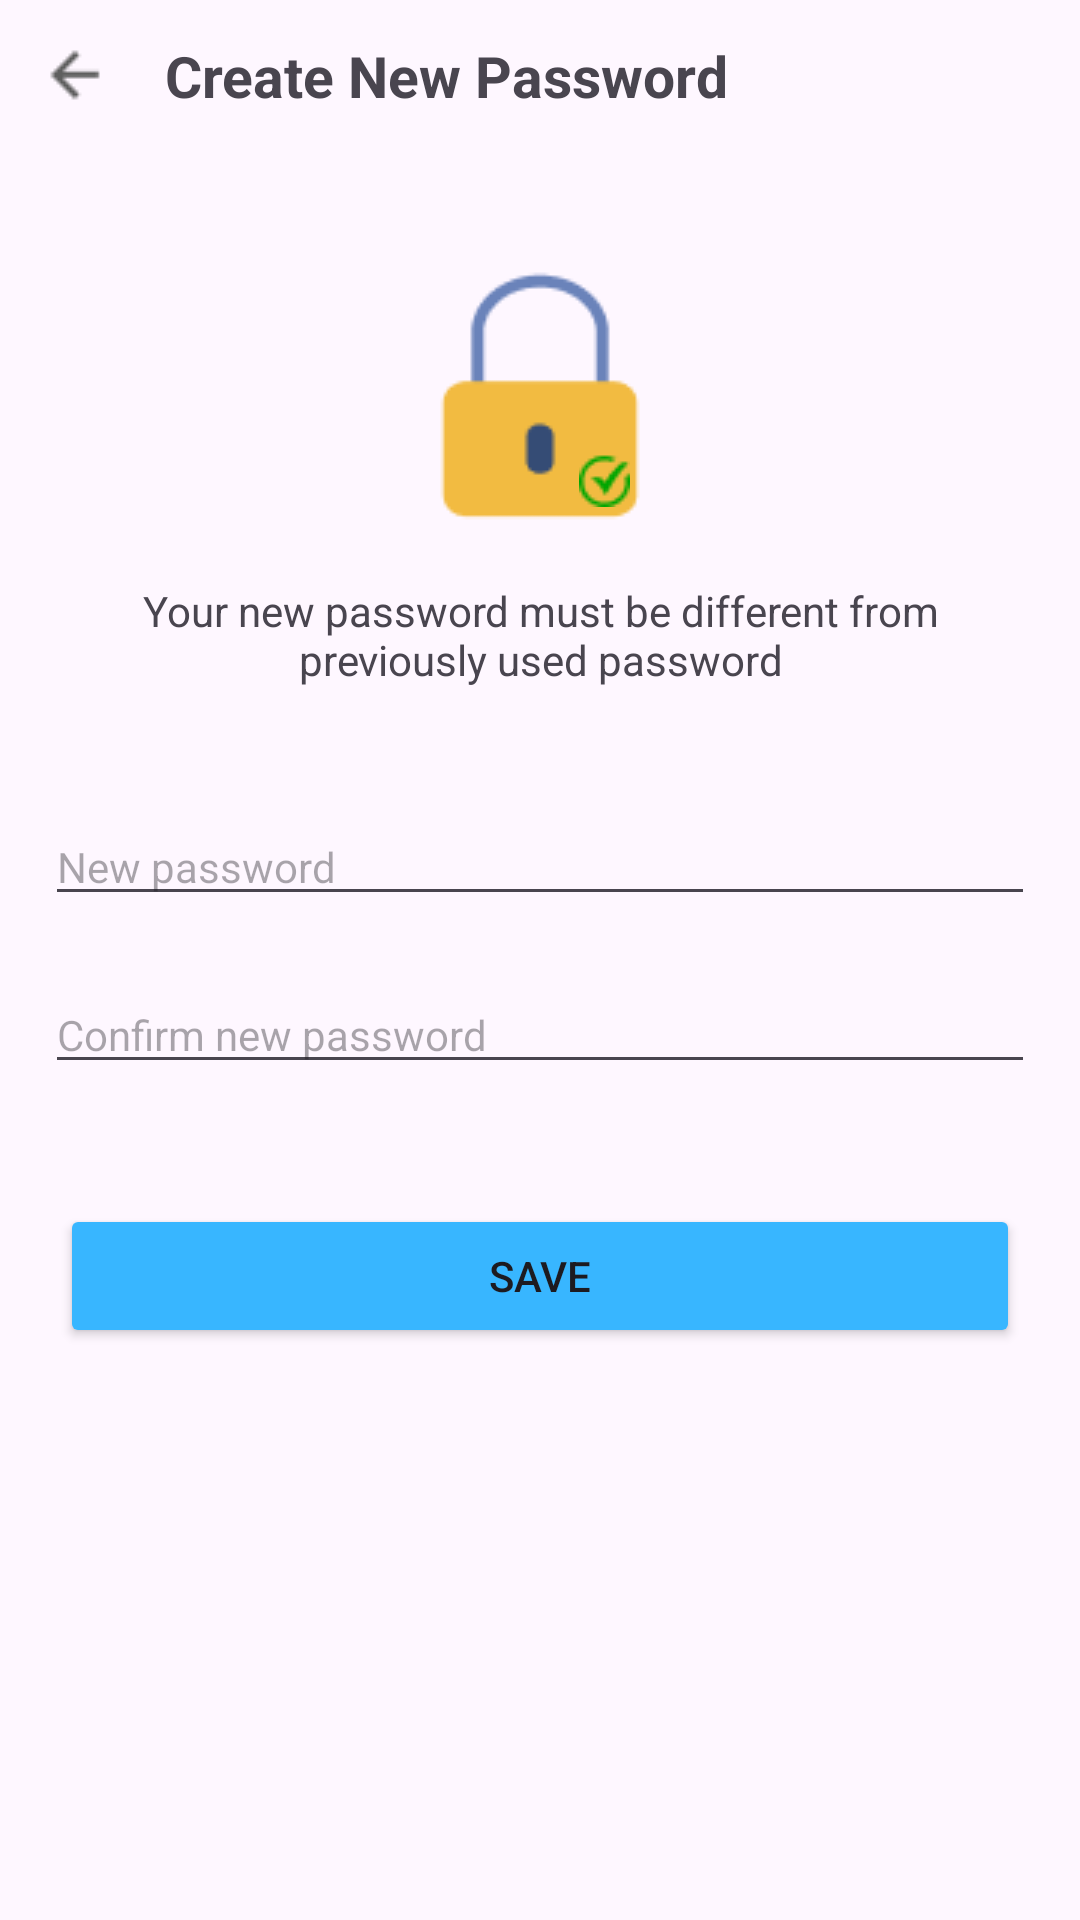

Icons on this 1080w x 1920h Android screen, each with its box as region(x1, y1, x2, y2):
arrow left: region(50, 50, 100, 100)
